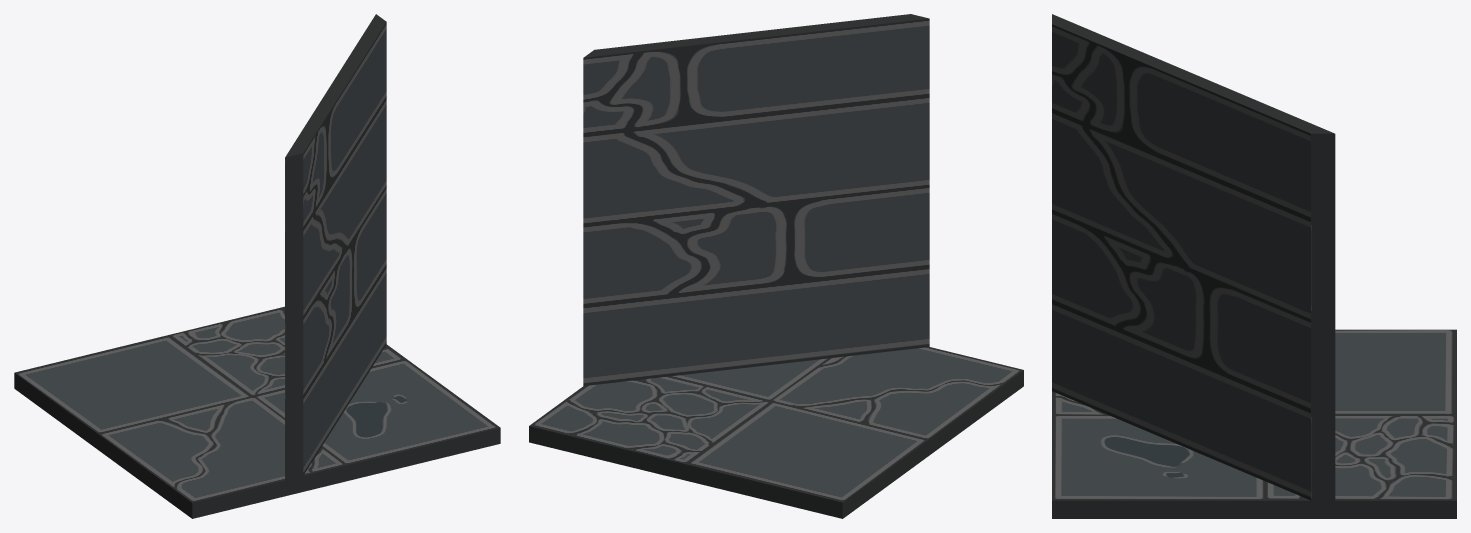
The model's file is Wall-XLCURVE-SE_v1.1.fbx.
The picture shows the model from 3 angles, left to right: view 1: azimuth 30°, elevation 25°; view 2: azimuth 150°, elevation 25°; view 3: azimuth 270°, elevation 25°; orthographic projection. The views are drawn at different scales.
Visible parts, largest first — view 1: Tile_Main.016; view 2: Tile_Main.016; view 3: Tile_Main.016.
Boxes of the visible parts, bbox=[...] form: Tile_Main.016: bbox=[14, 14, 500, 518]; Tile_Main.016: bbox=[529, 14, 1023, 518]; Tile_Main.016: bbox=[1052, 14, 1456, 518].
Bounding box in the file's own units: 100 × 100 × 105.
